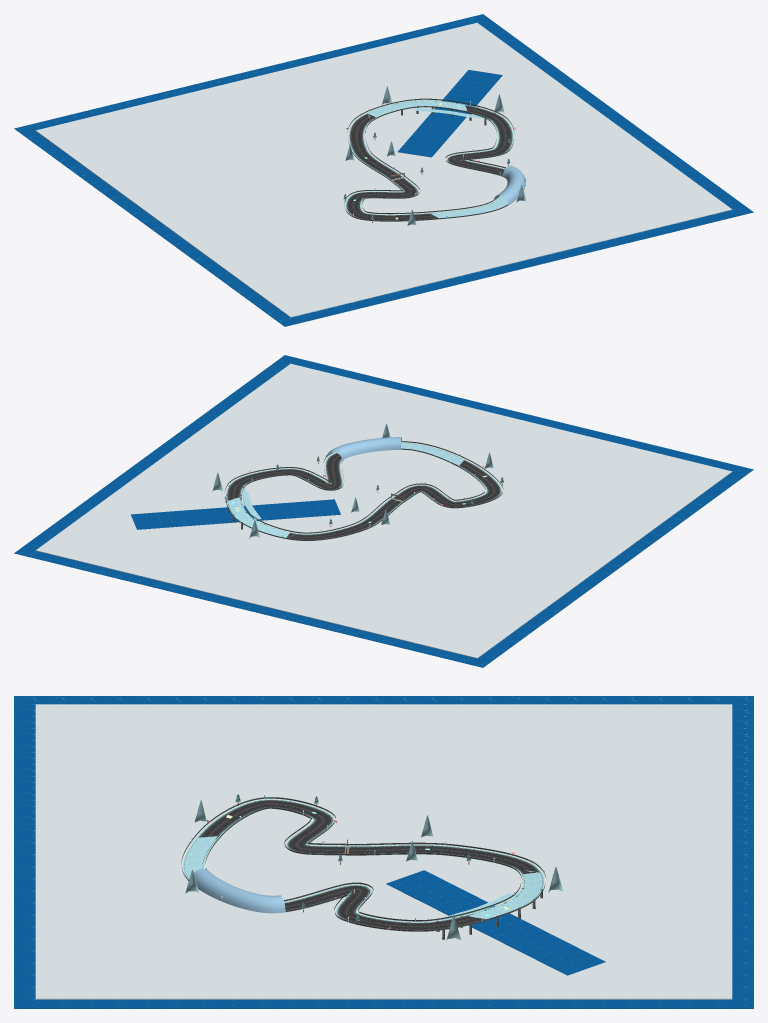
File: pico_boreal.glb
The picture shows the model from 3 angles, top to bottom: view 1: azimuth 30°, elevation 25°; view 2: azimuth 150°, elevation 25°; view 3: azimuth 270°, elevation 25°; orthographic projection. The views are drawn at different scales.
Visible parts, largest first — view 1: BiomeGroundBasin, BayWaterPlane, MainRoadMesh, RiverChannelPlane, LeftStoneWall, RightStoneWall, CoastalTunnelShell, SurfacePatch_boreal-ice-sheet-north; view 2: BiomeGroundBasin, BayWaterPlane, MainRoadMesh, RiverChannelPlane, CoastalTunnelShell, LeftStoneWall, RightStoneWall, SurfacePatch_boreal-ice-sheet-north; view 3: BiomeGroundBasin, BayWaterPlane, MainRoadMesh, RiverChannelPlane, CoastalTunnelShell, LeftStoneWall, RightStoneWall, SurfacePatch_boreal-ice-sheet-north, LeftCurbMesh, SurfacePatch_boreal-ice-sheet-south, RightCurbMesh.
Part boxes in pixels (box(x1,y1,x2,y2)): BiomeGroundBasin: box(35, 22, 732, 317); BayWaterPlane: box(14, 14, 753, 326); MainRoadMesh: box(346, 100, 512, 220); RiverChannelPlane: box(397, 70, 502, 157); LeftStoneWall: box(344, 98, 525, 221); RightStoneWall: box(361, 106, 507, 214); CoastalTunnelShell: box(493, 165, 525, 205); SurfacePatch_boreal-ice-sheet-north: box(367, 100, 466, 117); BiomeGroundBasin: box(35, 363, 732, 658); BayWaterPlane: box(14, 355, 753, 667); MainRoadMesh: box(227, 443, 500, 539); RiverChannelPlane: box(131, 499, 340, 529); CoastalTunnelShell: box(325, 437, 402, 460); LeftStoneWall: box(224, 441, 503, 540); RightStoneWall: box(242, 448, 485, 533); SurfacePatch_boreal-ice-sheet-north: box(228, 497, 293, 537); BiomeGroundBasin: box(35, 704, 732, 999); BayWaterPlane: box(14, 696, 753, 1008); MainRoadMesh: box(184, 800, 542, 930); RiverChannelPlane: box(386, 870, 605, 975); CoastalTunnelShell: box(194, 869, 285, 913); LeftStoneWall: box(181, 797, 546, 931); RightStoneWall: box(205, 807, 522, 921); SurfacePatch_boreal-ice-sheet-north: box(468, 870, 542, 919); LeftCurbMesh: box(183, 799, 543, 919); SurfacePatch_boreal-ice-sheet-south: box(184, 836, 216, 878); RightCurbMesh: box(202, 810, 524, 922).
Bounding box in the file's own units: 680 × 36.57 × 680.
Materials: 18 (8 with a texture image).
